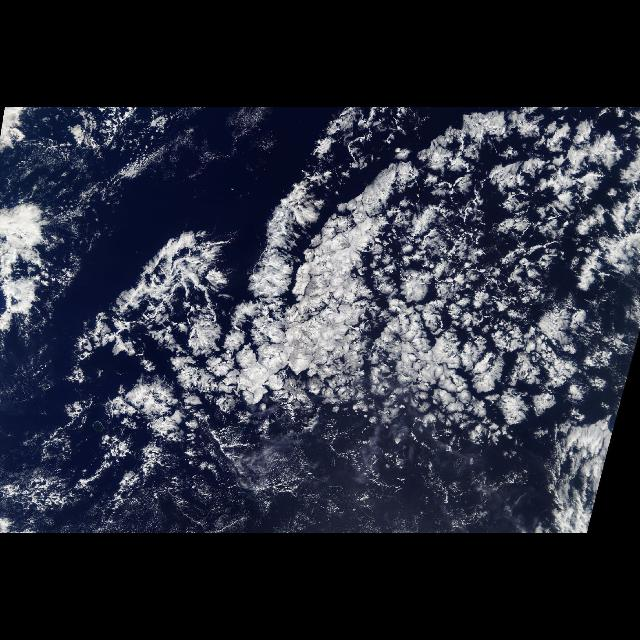Fish: (0, 195, 84, 352)
Flower: (190, 112, 638, 450)
